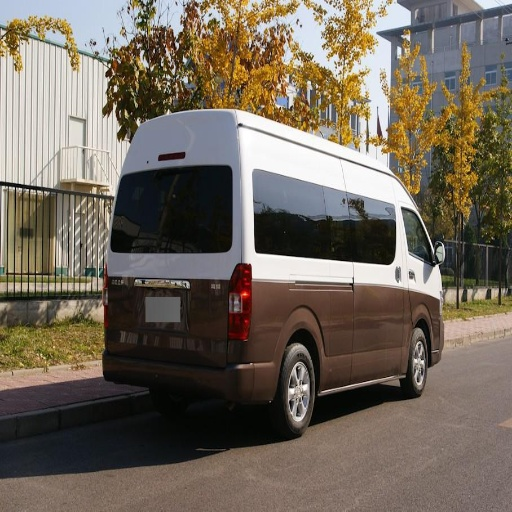trunk: (113, 255, 415, 396)
